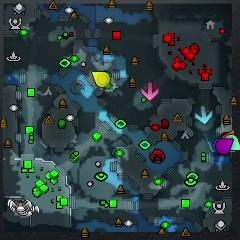p1: (213, 138, 221, 154)
p2: (225, 134, 240, 151)
p3: (216, 139, 233, 154)
p4: (91, 71, 110, 87)
p5: (222, 129, 234, 139)
x1: (141, 82, 159, 101)
x3: (195, 105, 213, 124)
